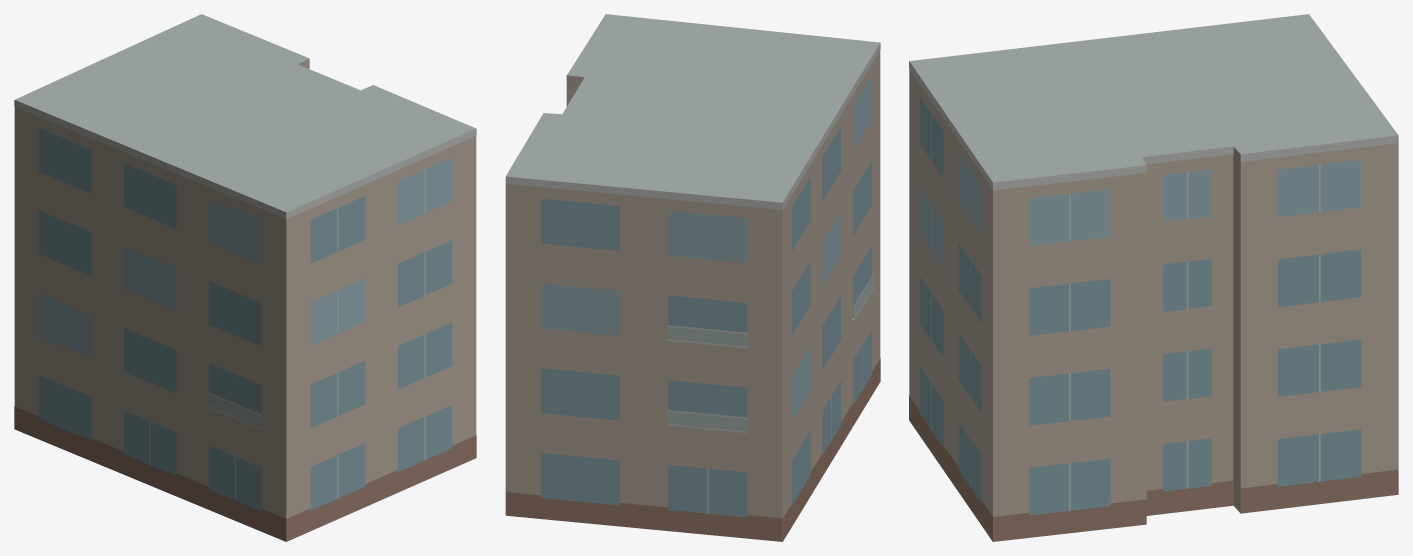
The model's file is survey-upis-32568891.glb.
3 views of the same model, side by side, from view 1: azimuth 30°, elevation 25°; view 2: azimuth 150°, elevation 25°; view 3: azimuth 270°, elevation 25° (orthographic). The views are drawn at different scales.
Parts seen in each view (by area): view 1: survey-upis-32568891.tmp; view 2: survey-upis-32568891.tmp; view 3: survey-upis-32568891.tmp.
Part boxes in pixels (x1,y1,x2,y2): survey-upis-32568891.tmp: [14, 14, 476, 541]; survey-upis-32568891.tmp: [505, 14, 880, 541]; survey-upis-32568891.tmp: [909, 14, 1398, 541].
Size of the model in its own units: 11.48 by 11.4 by 14.09.
